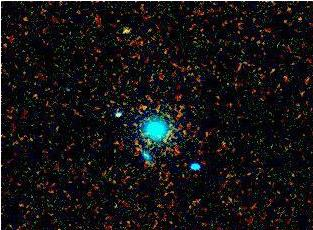star: (110, 15, 140, 45)
